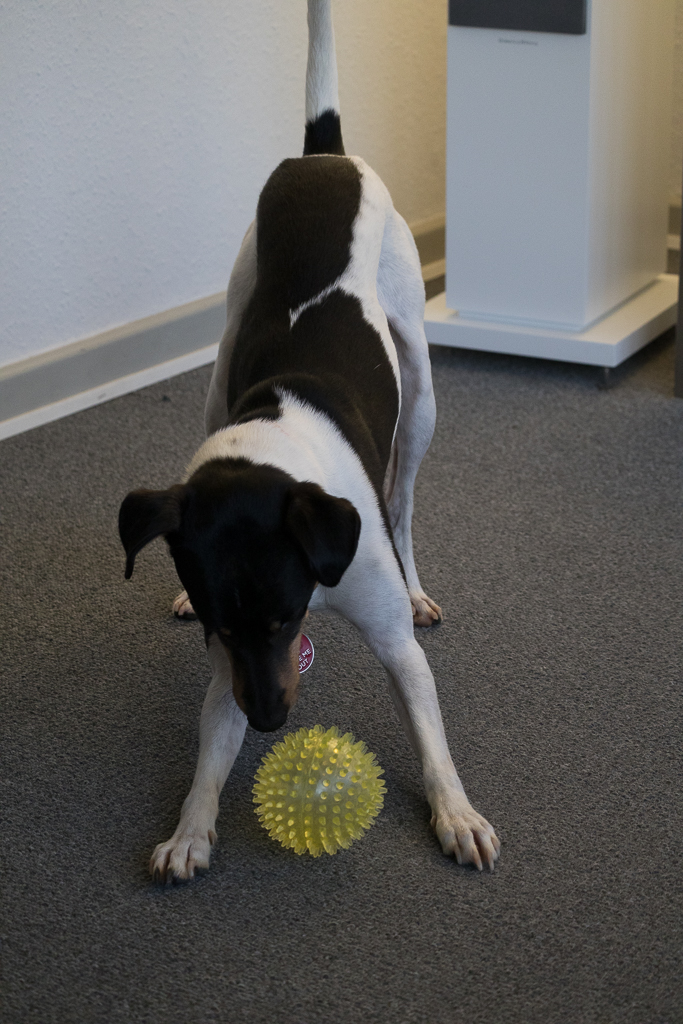Dog: (96, 0, 523, 891)
